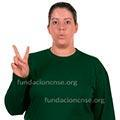U: (5, 40, 38, 90)
